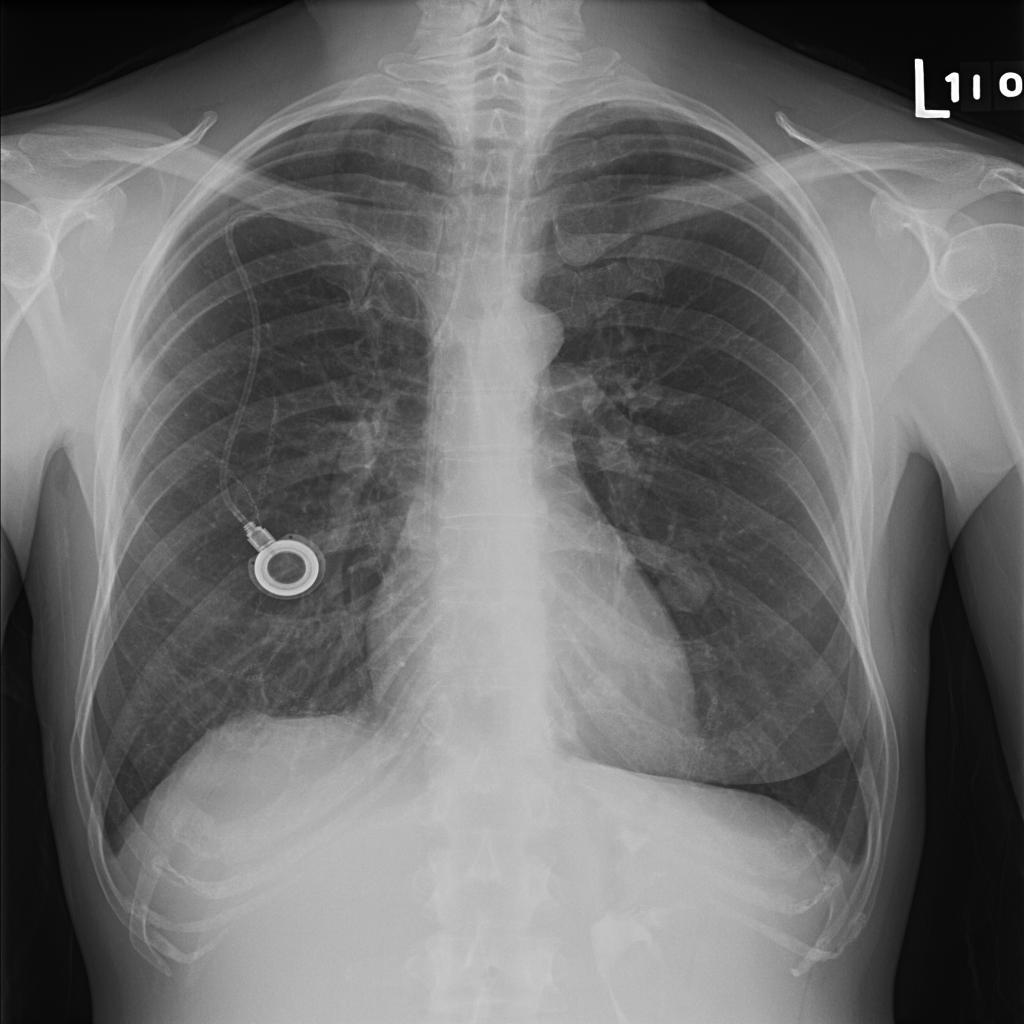Nodule: (386, 286, 423, 314), (181, 111, 219, 135), (72, 183, 106, 206)
